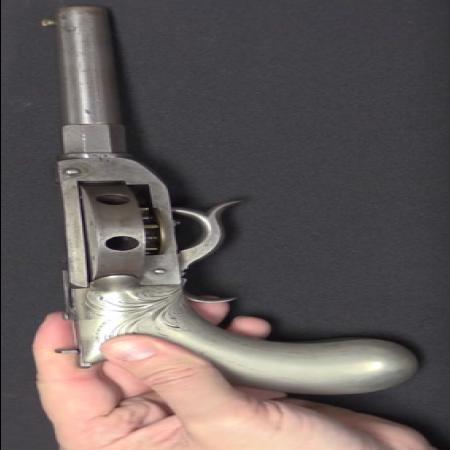Pistol: (22, 9, 407, 397)
